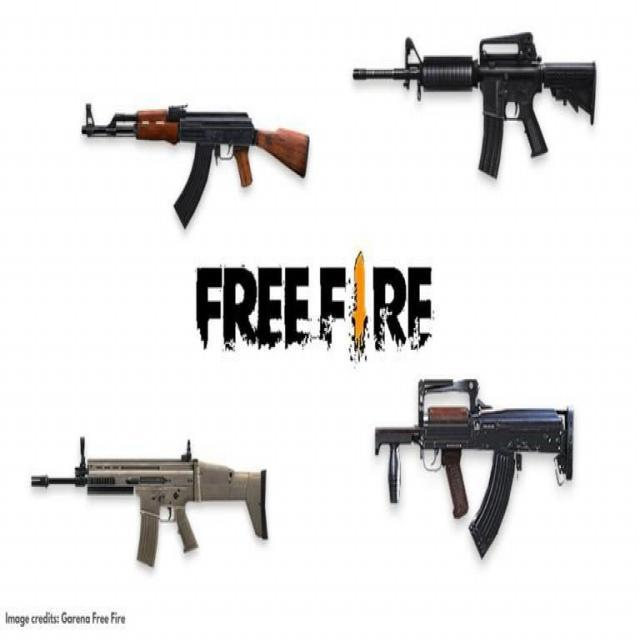rifle: (26, 423, 286, 591), (353, 12, 605, 168), (371, 372, 577, 557), (77, 85, 322, 233)
